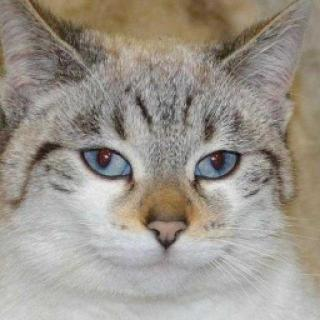cat: (7, 0, 319, 298)
nose: (143, 204, 192, 253)
